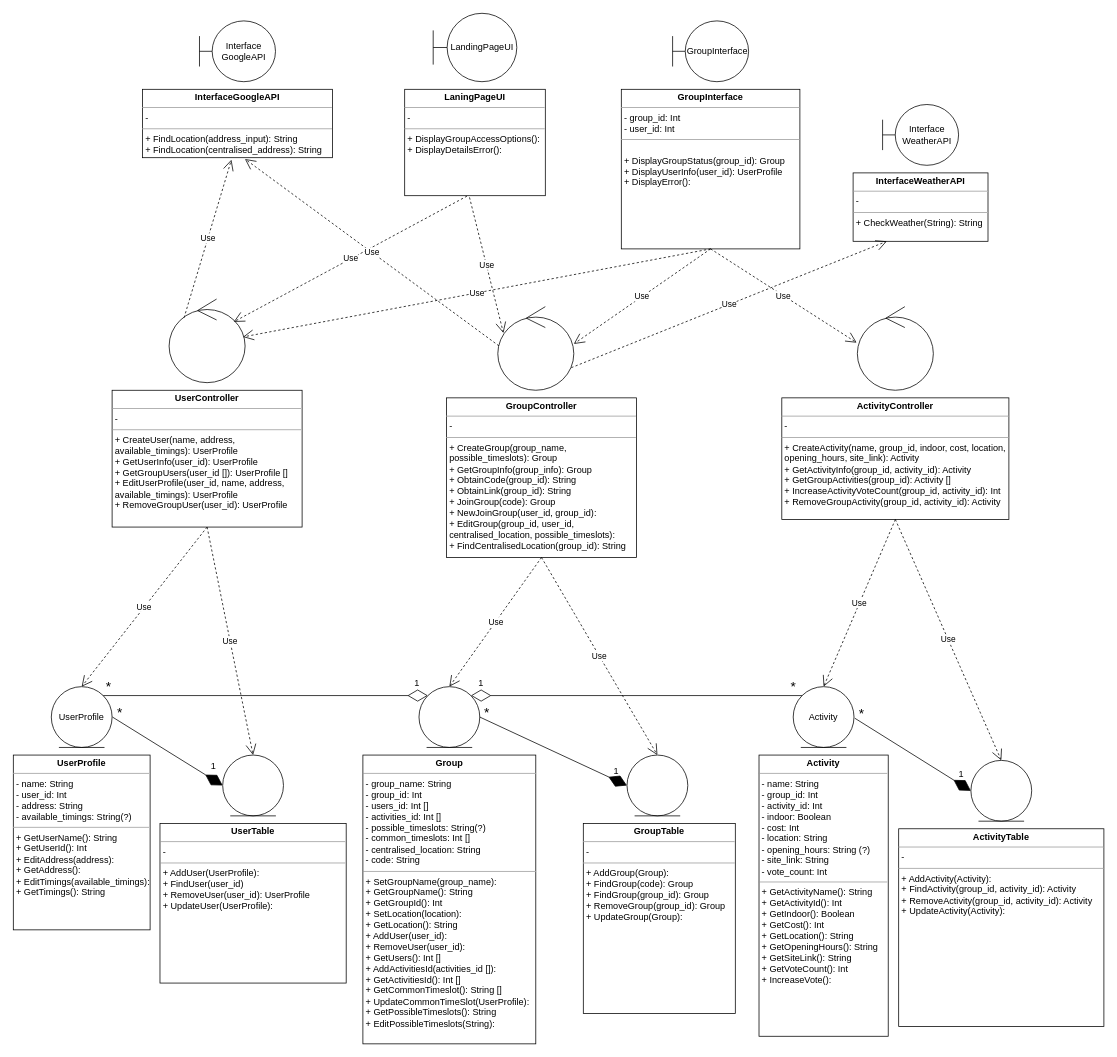
Image size: 1117x1057. Some labels were removed from this diagram. Each missing label, with the centre of its shape:
"ActivityController" goes at pixel 895 348.
"ActivityTable" goes at pixel 1001 790.
"Group" goes at pixel 449 716.
"GroupController" goes at pixel 535 348.
"GroupTable" goes at pixel 657 785.
"UserController" goes at pixel 206 340.
"UserTable" goes at pixel 252 785.
